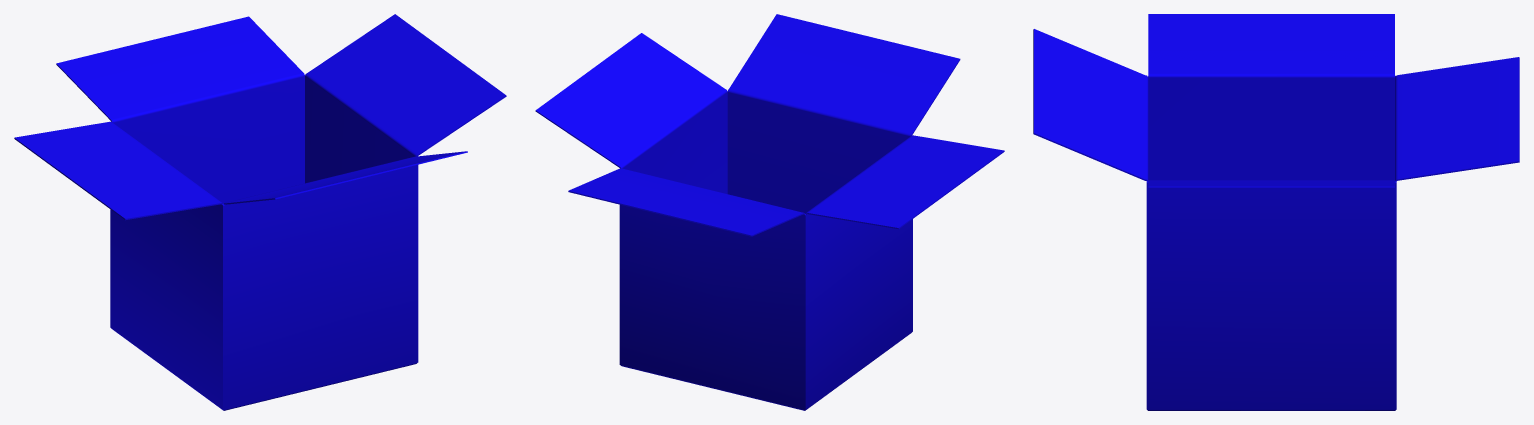
The model's file is SM_Evidence_Box_Open_1.FBX.
3 renders of one model, left to right at view 1: azimuth 30°, elevation 25°; view 2: azimuth 150°, elevation 25°; view 3: azimuth 270°, elevation 25°, orthographic. The views are drawn at different scales.
Parts seen in each view (by area): view 1: Evidence_Box_Open_1; view 2: Evidence_Box_Open_1; view 3: Evidence_Box_Open_1.
Boxes of the visible parts, bbox=[...] form: Evidence_Box_Open_1: bbox=[14, 14, 506, 410]; Evidence_Box_Open_1: bbox=[535, 14, 1004, 410]; Evidence_Box_Open_1: bbox=[1033, 14, 1519, 410].
Size of the model in its own units: 65.97 by 41.42 by 65.65.
